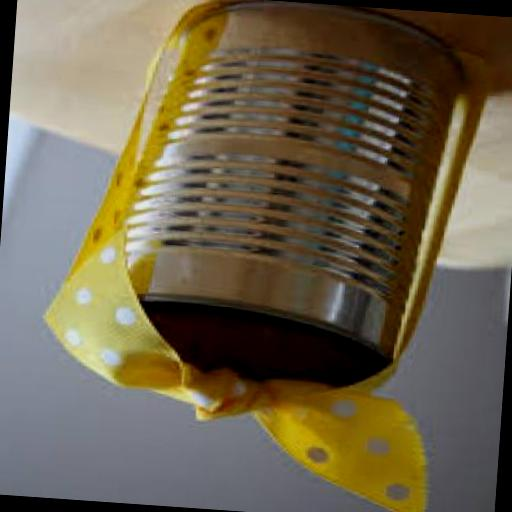metal: (71, 0, 467, 351)
